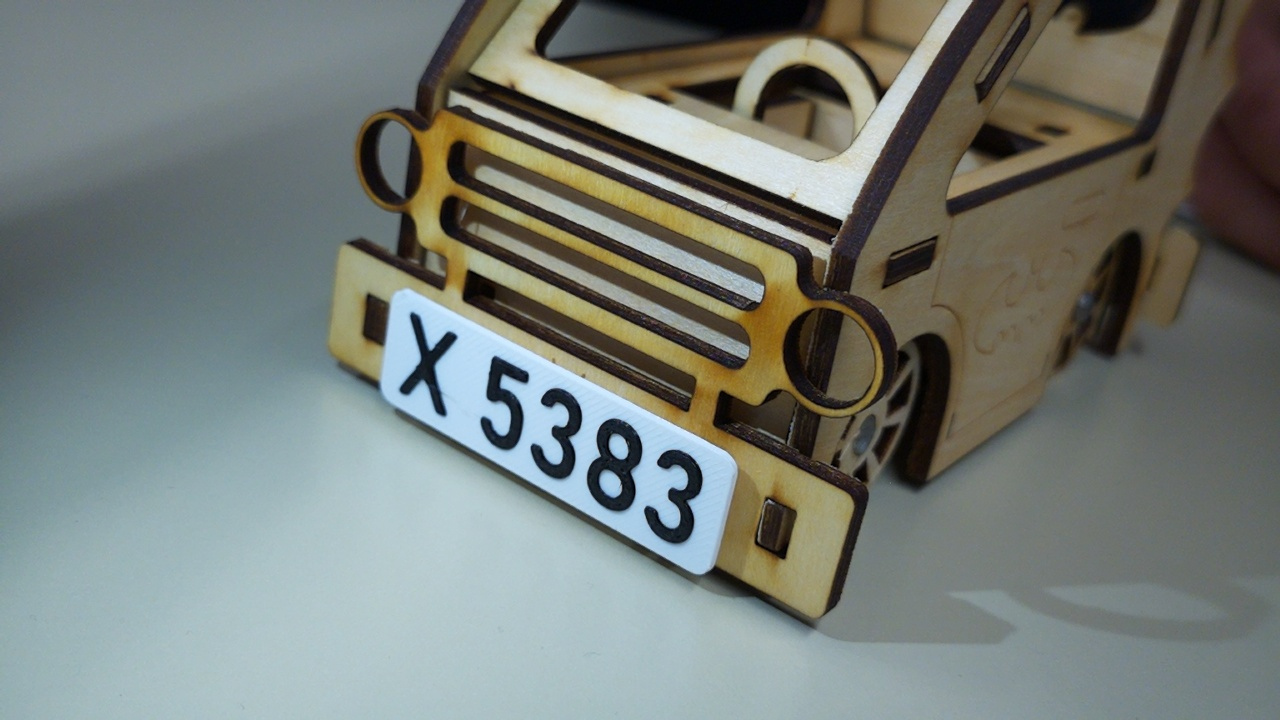license_plate: (378, 287, 741, 581)
